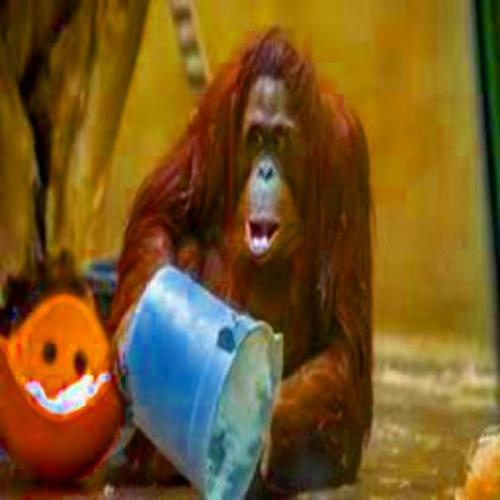orangutan-endangered: (114, 26, 377, 491)
